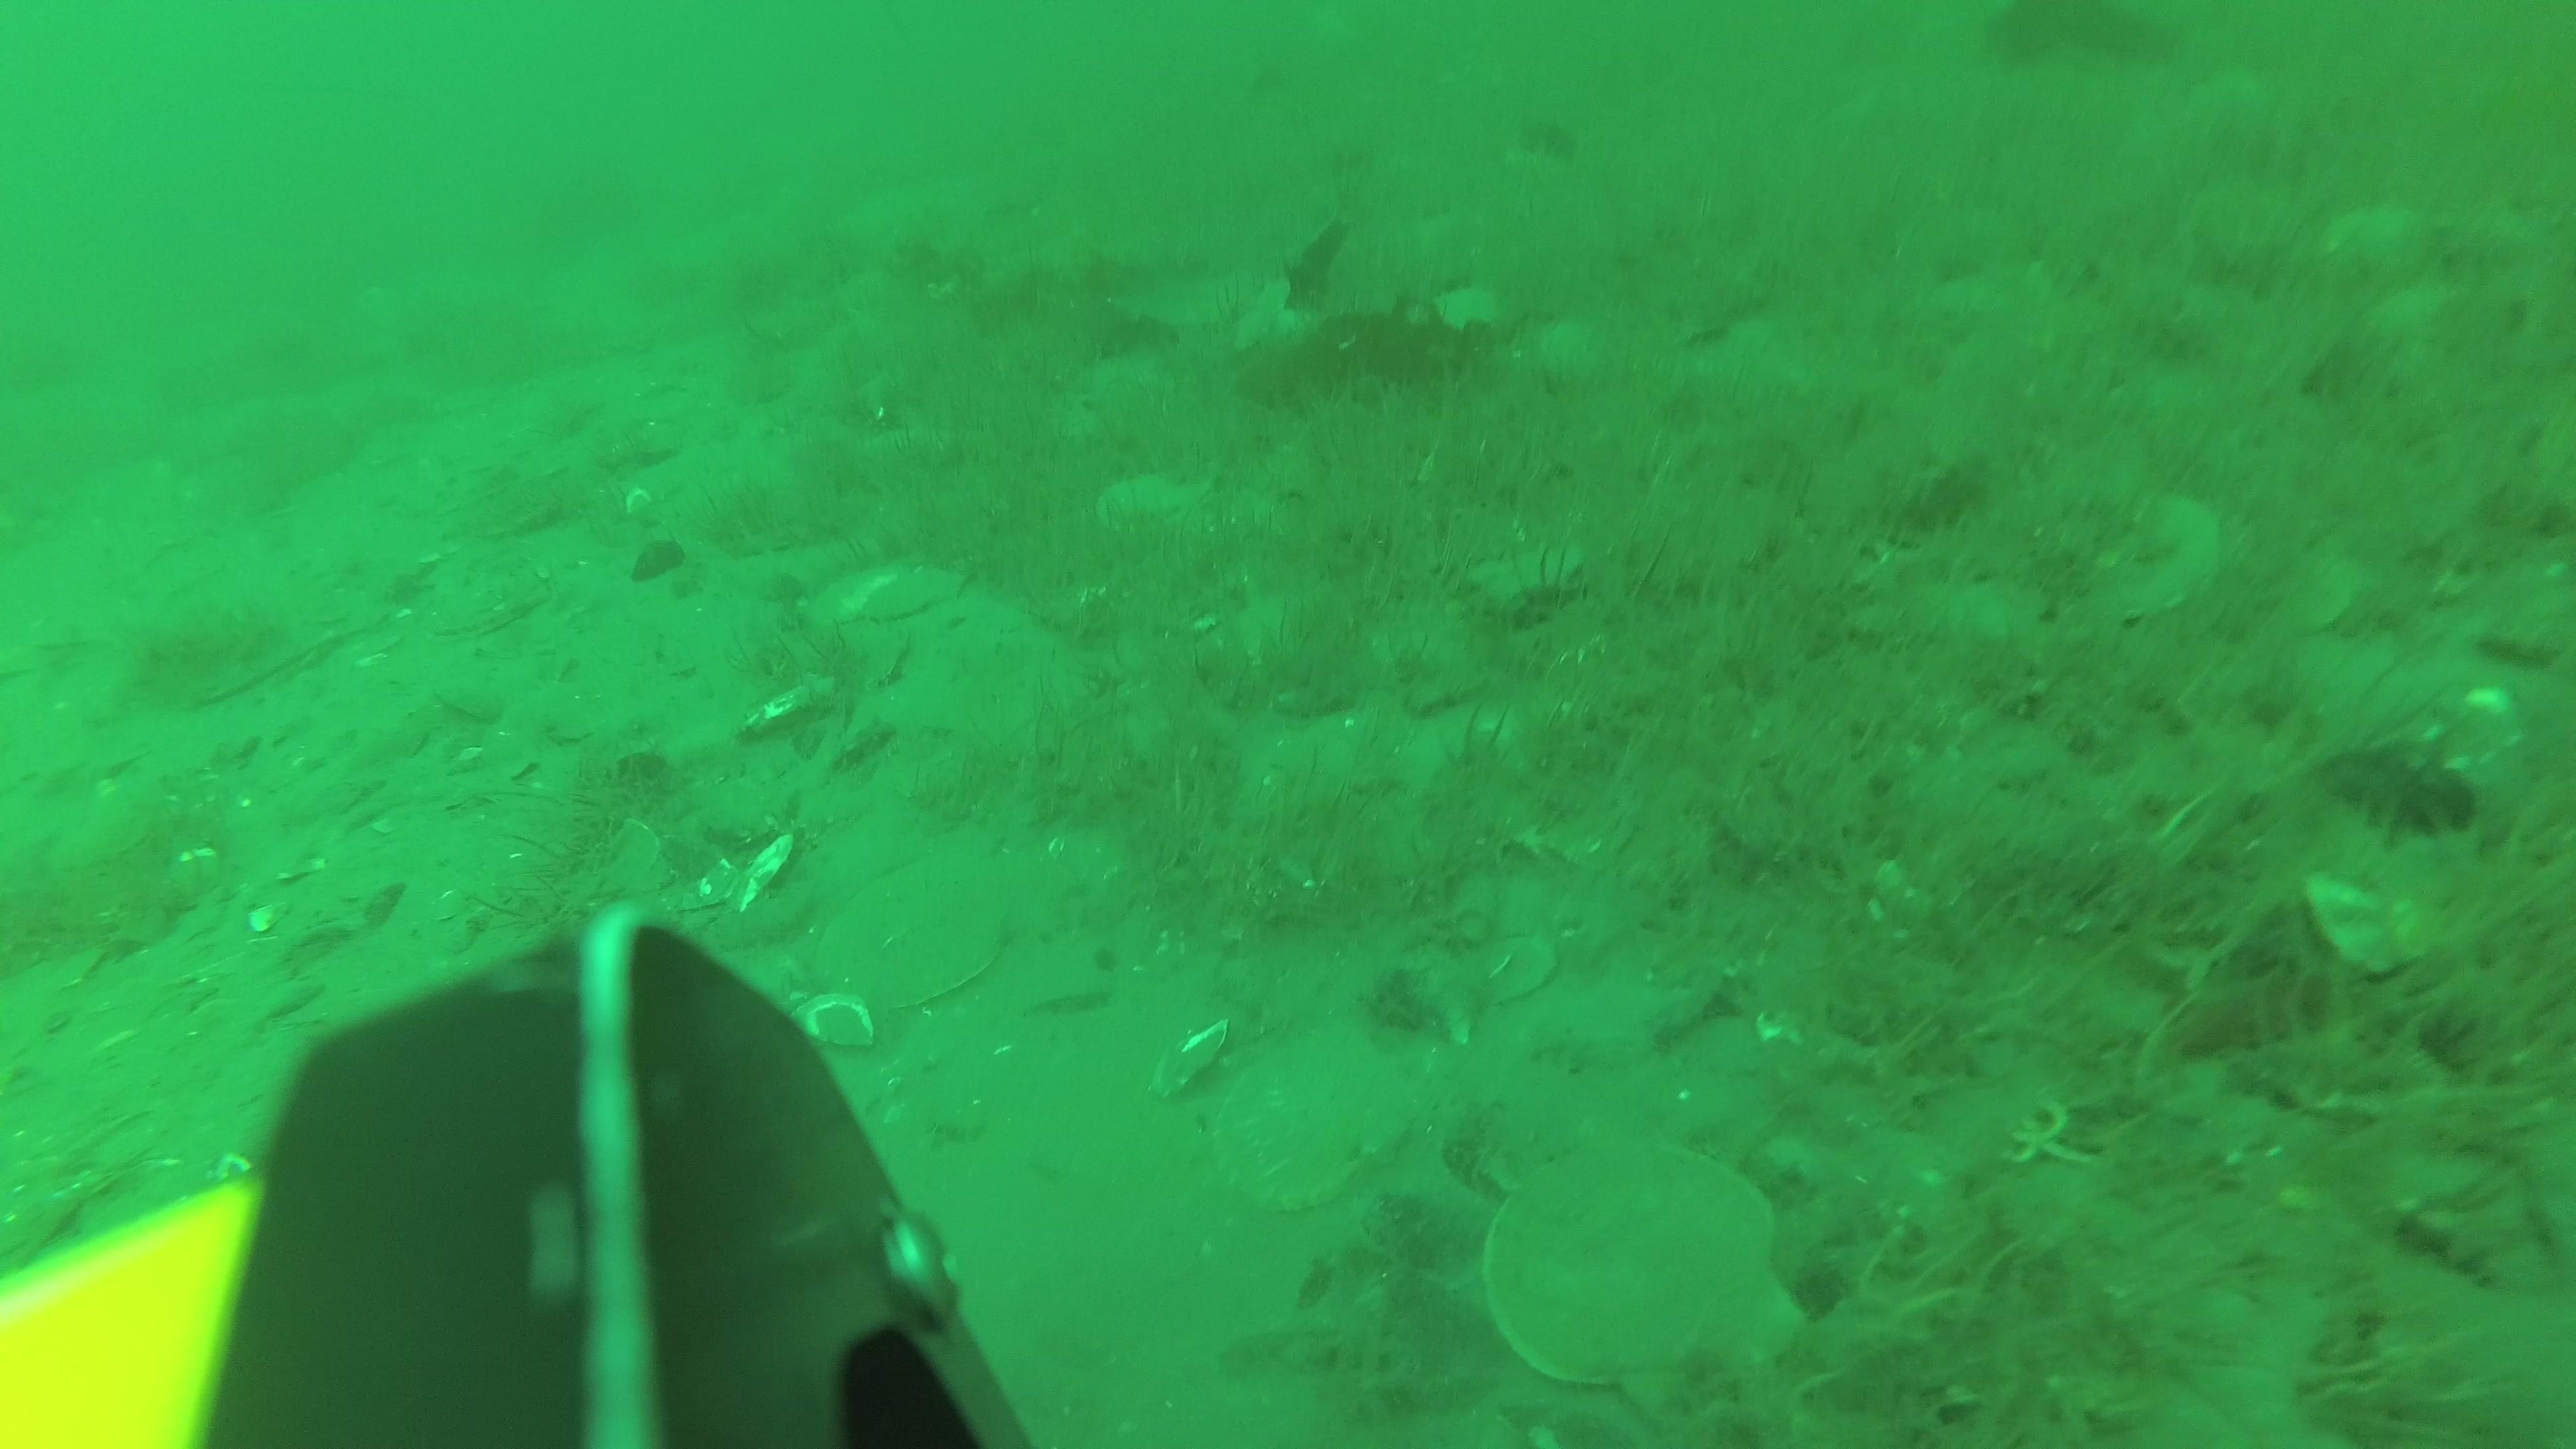scallop: (1488, 1132, 1806, 1437), (1219, 1024, 1415, 1215), (819, 858, 1024, 1019), (2089, 490, 2222, 626), (809, 556, 970, 623), (428, 570, 556, 644), (1104, 469, 1201, 540)
